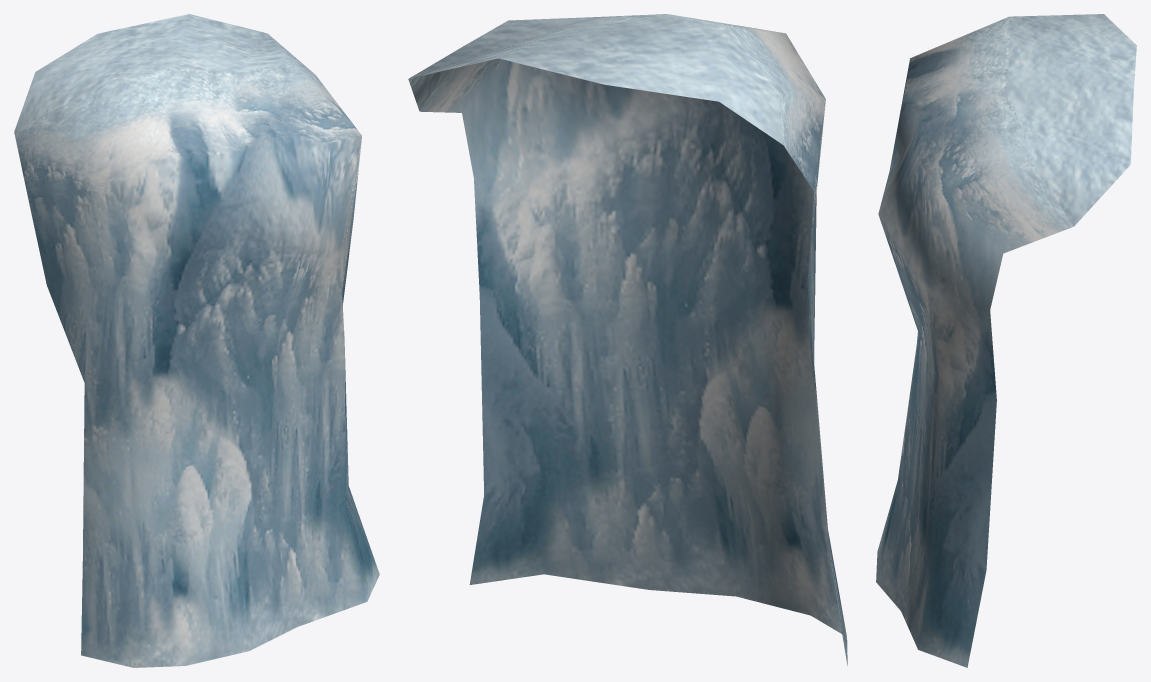
3 renders of one model, left to right at view 1: azimuth 30°, elevation 25°; view 2: azimuth 150°, elevation 25°; view 3: azimuth 270°, elevation 25°, orthographic. The views are drawn at different scales.
Visible parts, largest first — view 1: wj45; view 2: wj45; view 3: wj45.
Boxes of the visible parts, bbox=[...] form: wj45: bbox=[14, 14, 379, 667]; wj45: bbox=[408, 14, 847, 665]; wj45: bbox=[876, 14, 1136, 667].
Size of the model in its own units: 1366 by 2195 by 968.
1 material, 1 textured.
